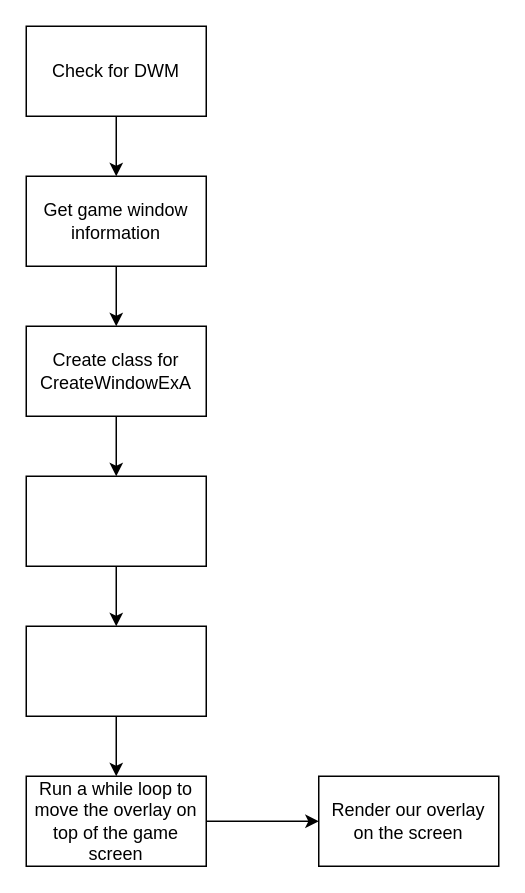
Image size: 525x893. Some labels were removed from this diagram. The shapes that lost their labels are listed below. From the top down, each one's centre as x and y in pixels, then its label:
pixel 115 520: Create and show our Overlay Window
pixel 115 670: Initialize Direct3D 9
